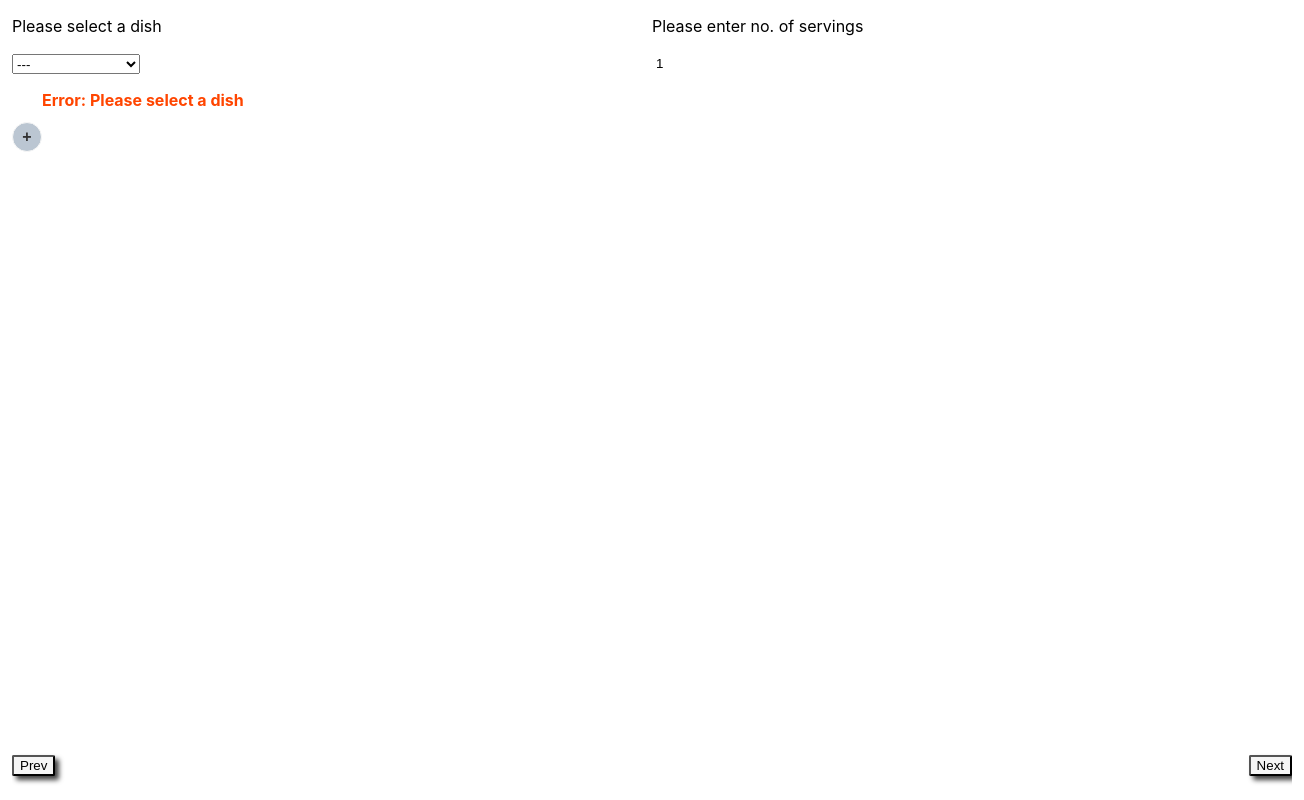
Scenario: selecting dishes › should remove error msg when dish selected
The width and height of the screenshot is (1304, 800).
Select "Breakfast Dish 3a" in the dropdown with class "selectDish" at coordinates (76, 64), box [12,54,140,74]
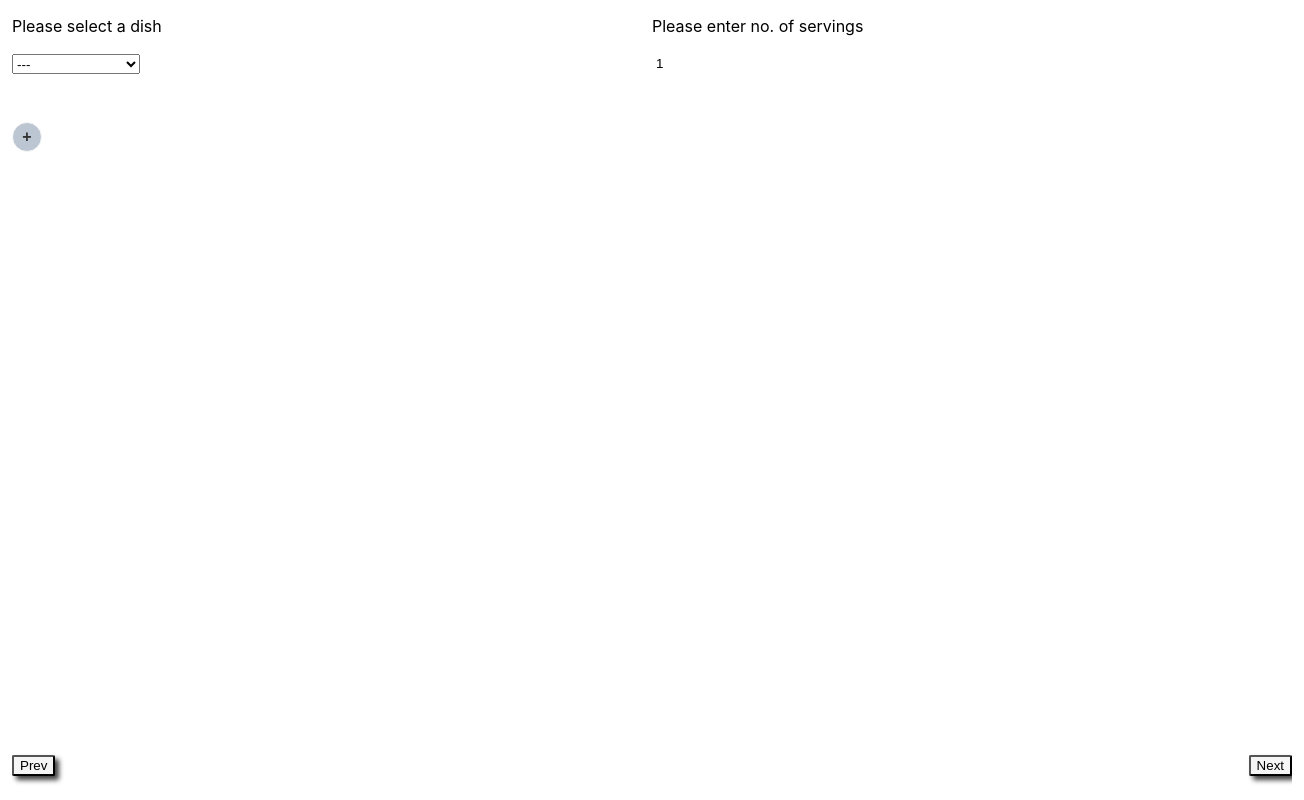
expect the text "Error: Please select a dish" is gone: met
